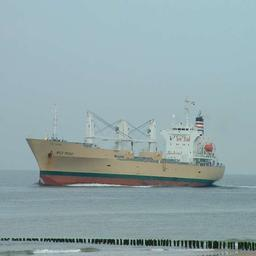Ship: (26, 112, 228, 191)
